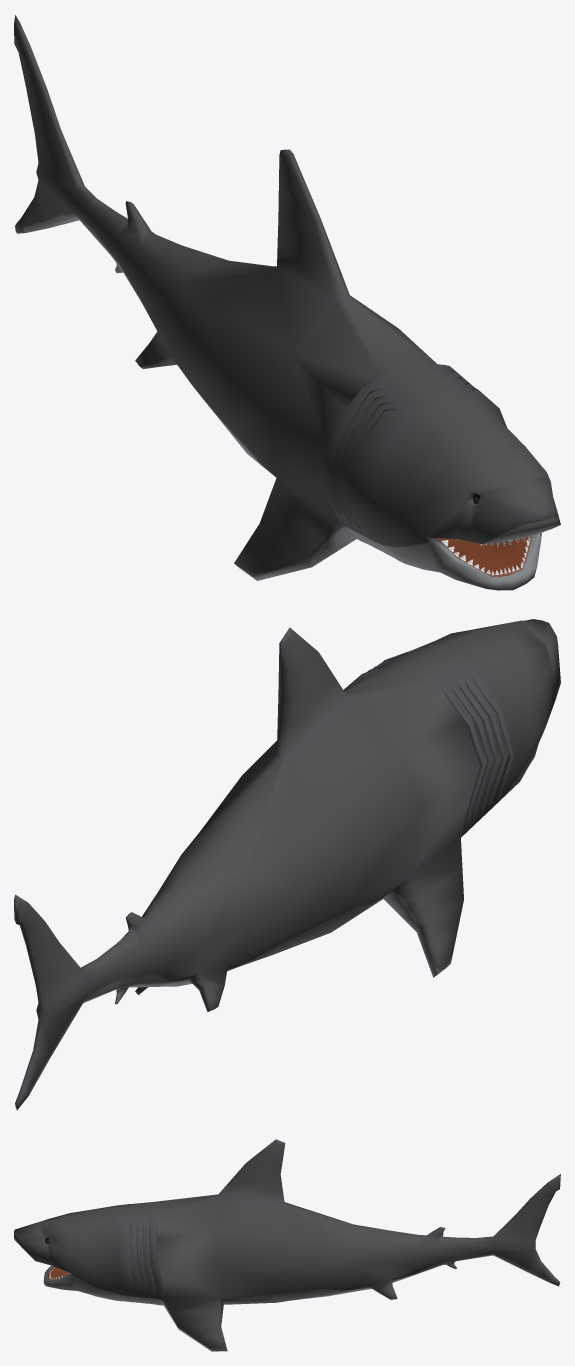
The model's file is Shark.obj.
3 renders of one model, top to bottom at view 1: azimuth 30°, elevation 25°; view 2: azimuth 150°, elevation 25°; view 3: azimuth 270°, elevation 25°, orthographic. The views are drawn at different scales.
Visible parts, largest first — view 1: Parent_Sharkbody_Parent_sharkbody_data, Sharkjaw_Sharkjaw_data; view 2: Parent_Sharkbody_Parent_sharkbody_data; view 3: Parent_Sharkbody_Parent_sharkbody_data.
Part boxes in pixels (x1=…): Parent_Sharkbody_Parent_sharkbody_data: x1=14, y1=15, x2=560, y2=590; Sharkjaw_Sharkjaw_data: x1=438, y1=531, x2=543, y2=576; Parent_Sharkbody_Parent_sharkbody_data: x1=14, y1=619, x2=560, y2=1110; Parent_Sharkbody_Parent_sharkbody_data: x1=14, y1=1139, x2=560, y2=1351.
Size of the model in its own units: 1.35 by 2.27 by 5.96.
2 materials, 2 textured.
